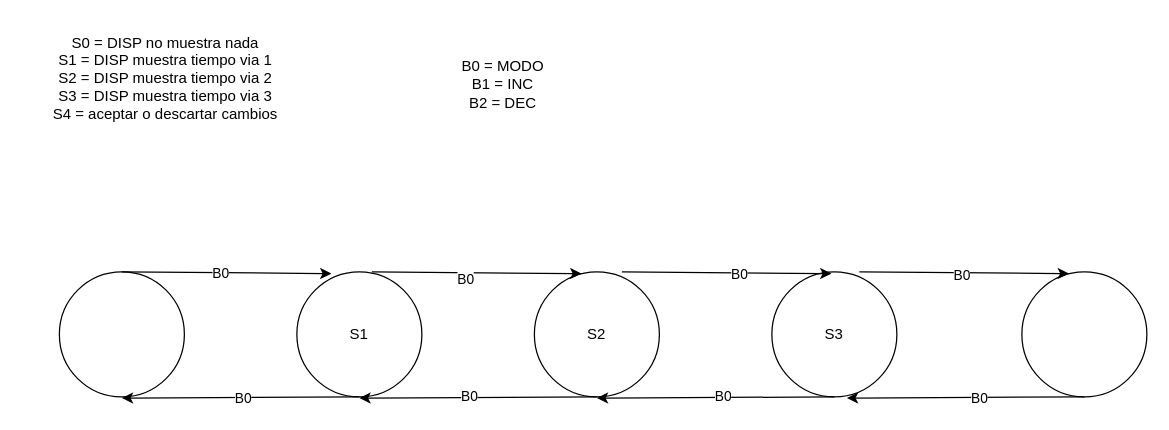
Image size: 1169x430. Some labels were removed from this diagram. The shapes that lost their labels are listed below. From the top down, each one's box as (x1, y1, x2, y2) in pixels, then its label:
(58, 271, 184, 397): S0
(1021, 271, 1147, 397): S4
